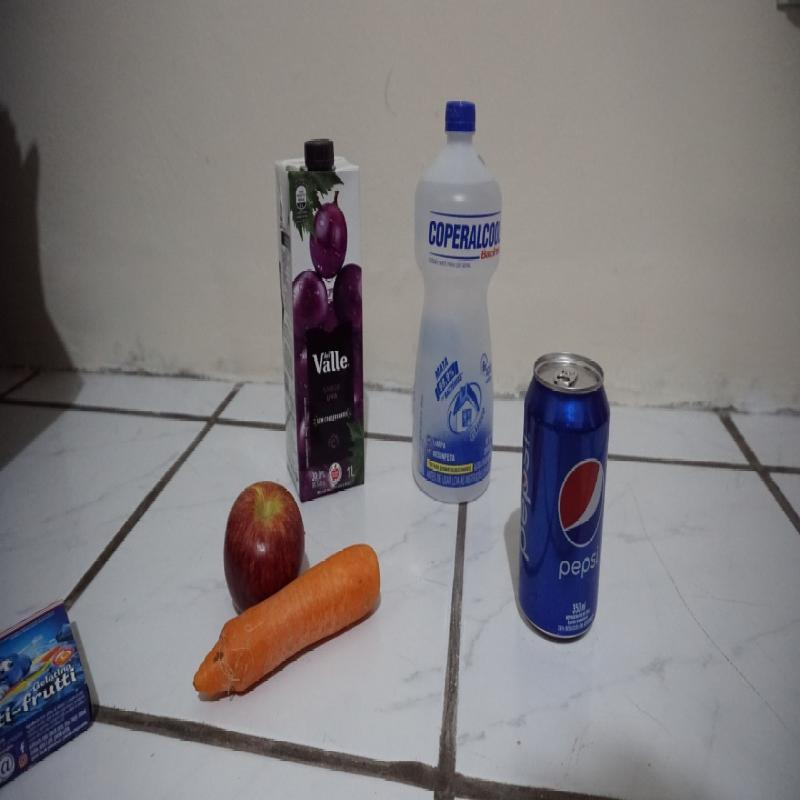Alcohol Bottle: (408, 98, 504, 506)
Apple: (221, 478, 308, 616)
Carrot: (190, 542, 386, 702)
Gelatine: (0, 590, 96, 792)
Soda can: (517, 348, 612, 646)
